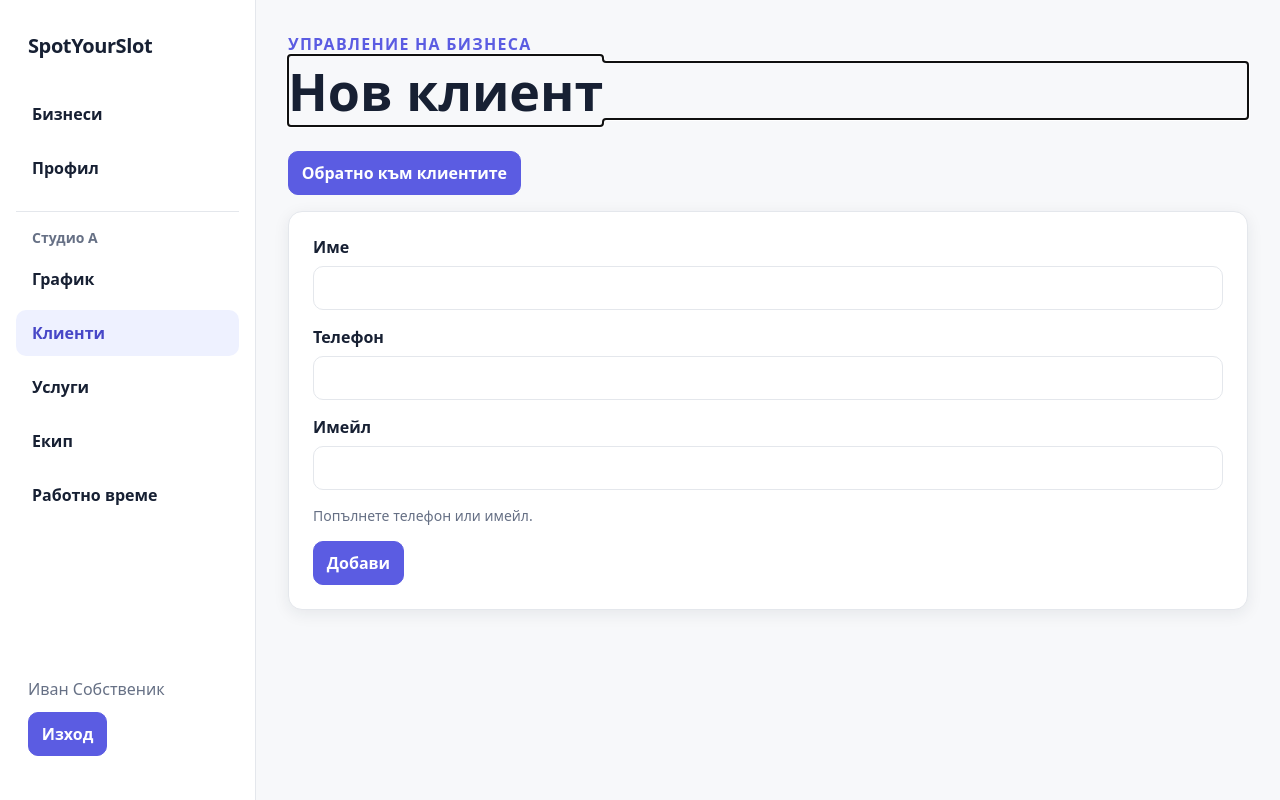
Test: outcomes that are not a lost Business context › a mutation that reveals the suspension keeps the selection (Customers refresh to the suspended state)
Type "Мария" into the field labelled "Име" at (768, 288), box [313, 266, 1223, 310]
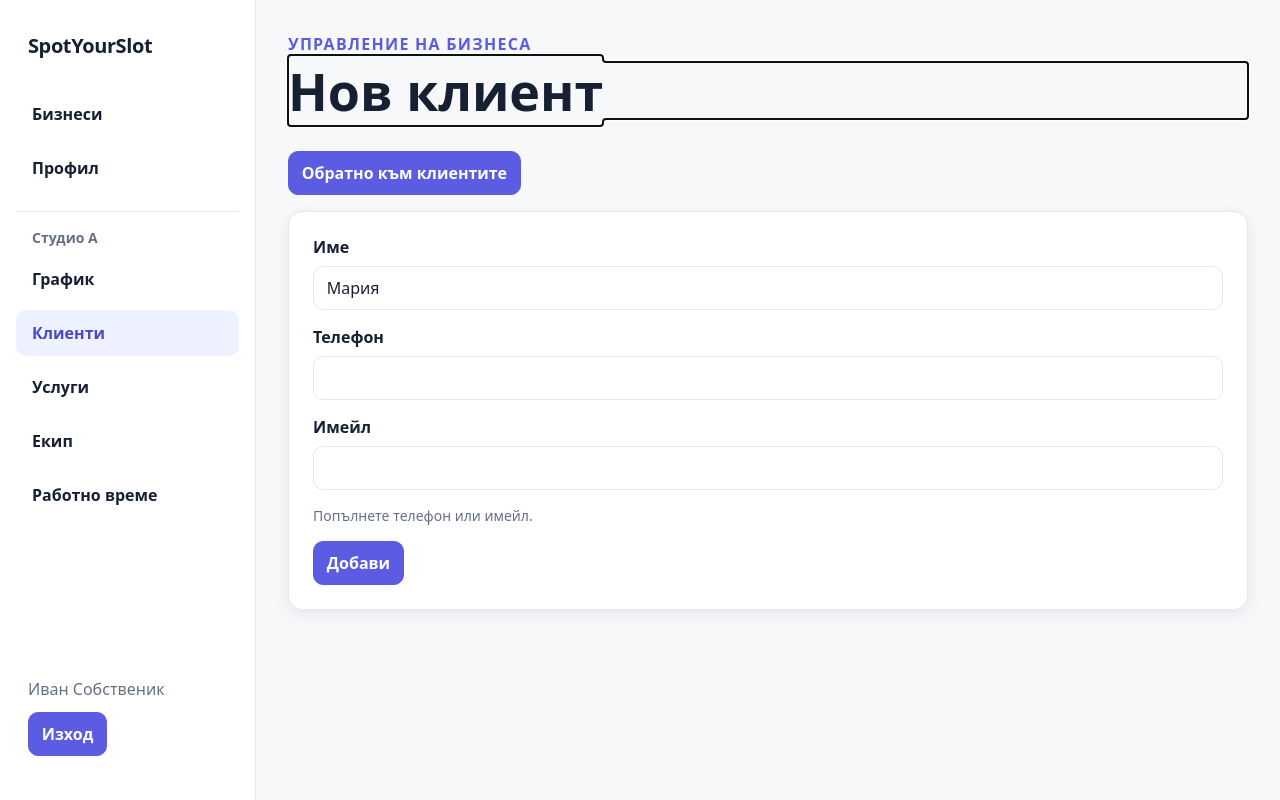
Type "maria@example.test" into the field labelled "Имейл" at (768, 468), box [313, 446, 1223, 490]
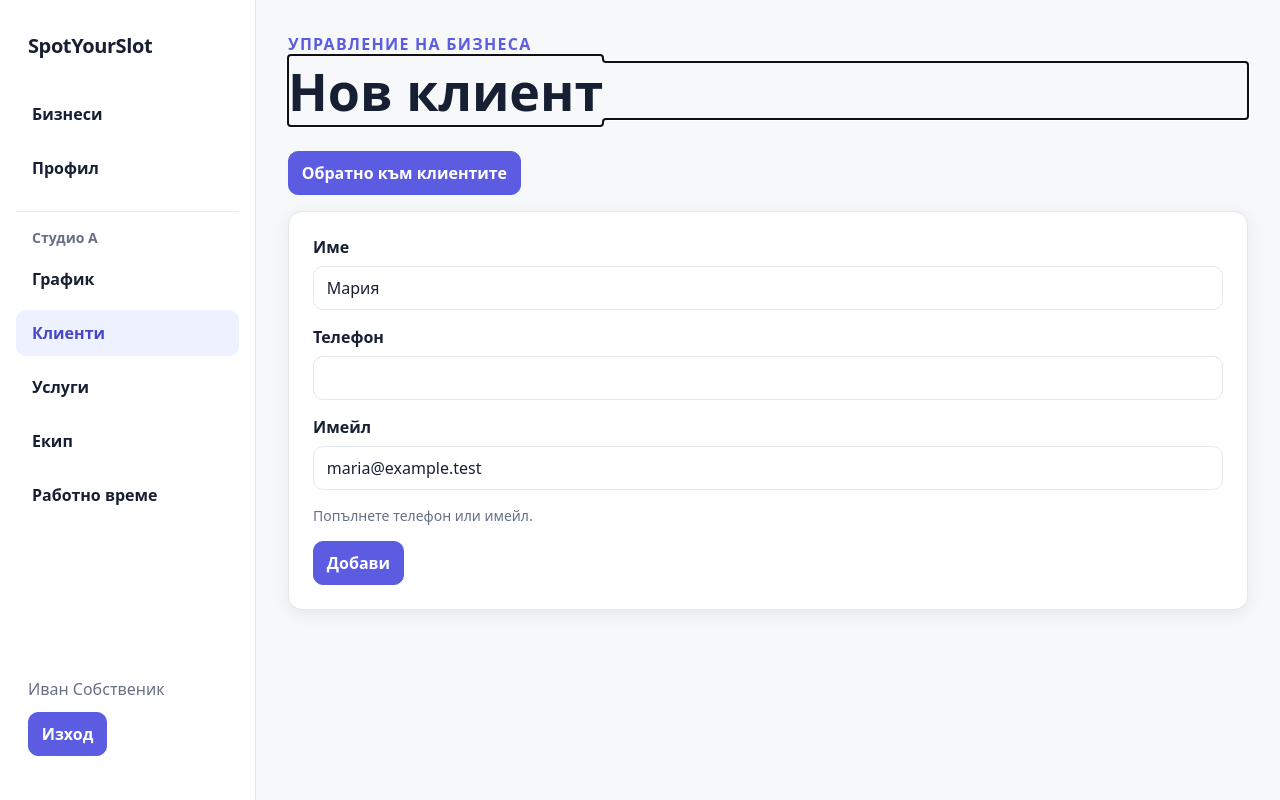
Click the button "Добави" at (358, 563), box [313, 541, 404, 585]
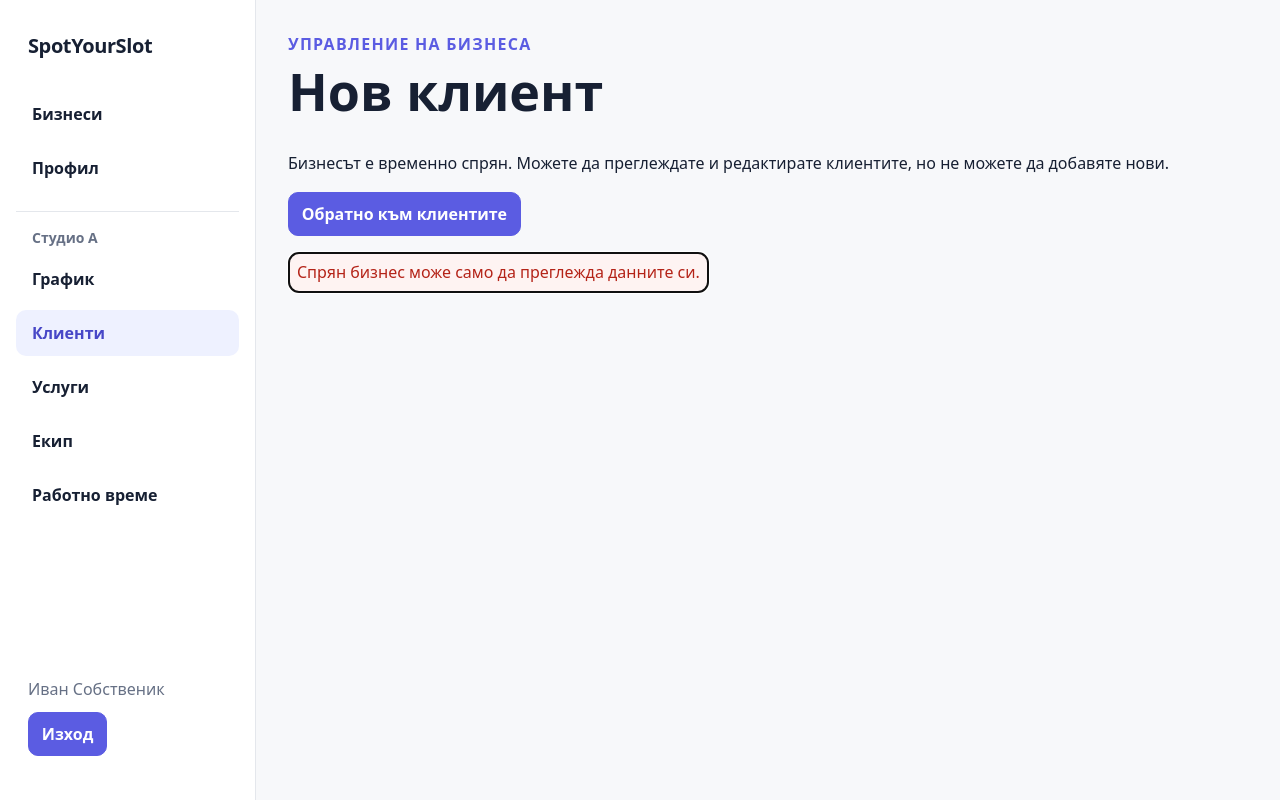
Check: the element "Студио А" is shown, box [16, 211, 239, 518]
Check: the 1st message shows "Бизнесът е временно спрян. Можете да преглеждате и редактирате клиентите, но не можете да добавяте нови.", box [288, 152, 1169, 174]
